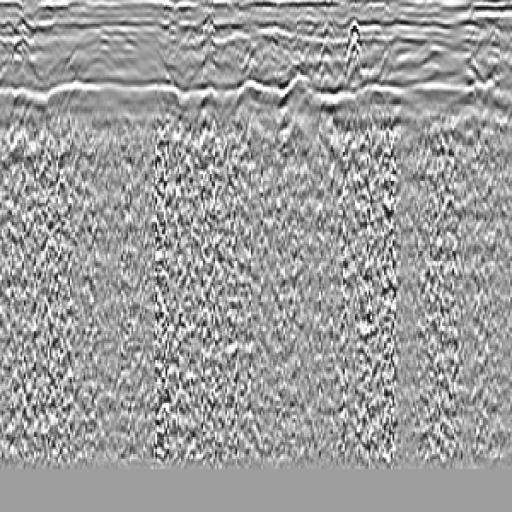non-metallic: (333, 16, 380, 122)
